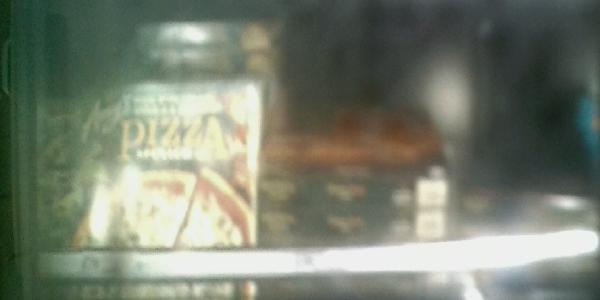pizza1: (34, 78, 259, 296)
pizza2: (258, 156, 455, 210), (261, 208, 452, 241)
